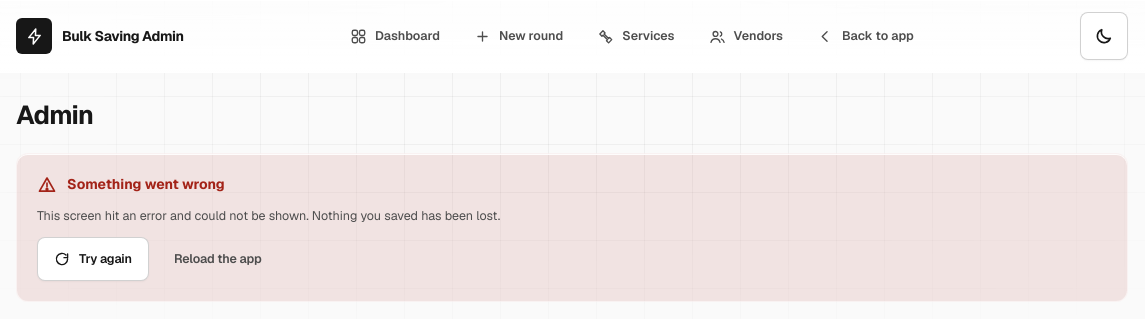
Test: BUG-011 — a crashing screen does not take the app down with it › leaving a crashed screen clears the crash — the next screen is not stuck on the error
This screenshot has width=1145, height=319.
Check: the message is shown, box [16,153,1128,302]
The nav is outside the boundary, so it still navigates.
Step 1. Click the link "Dashboard" → {"x": 395, "y": 36}, box [350,27,440,44]
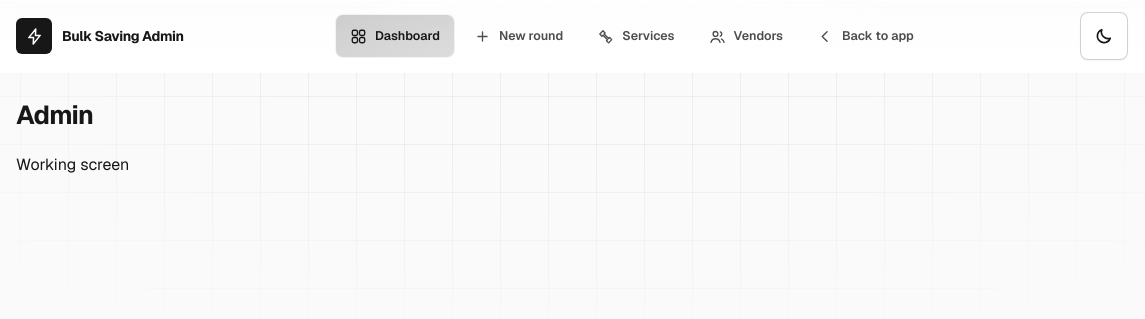
Check: the message is gone
Check: the text "Working screen" is shown, box [16,154,129,175]
